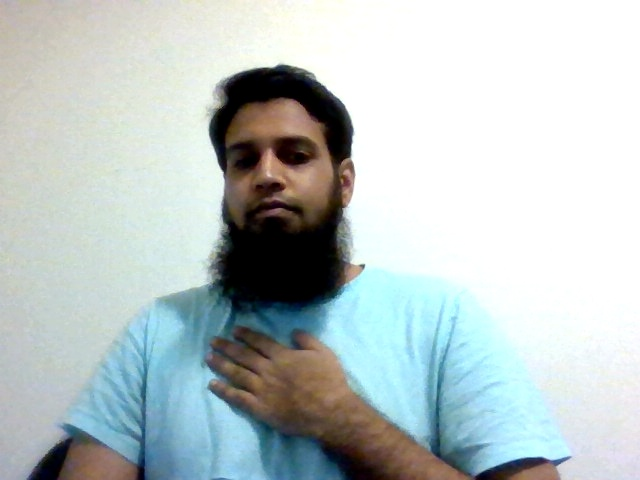please: (204, 322, 352, 448)
